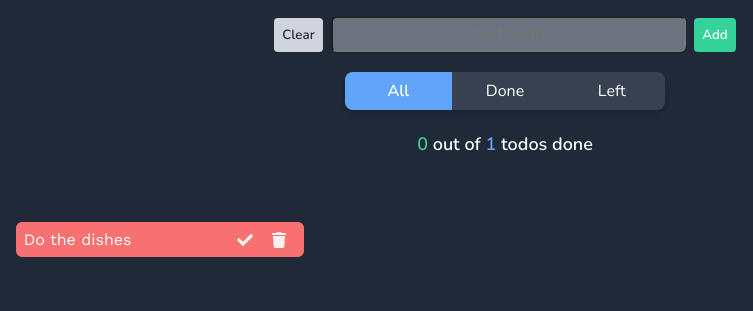
Test case: the testing the behaviour of todosContainer › should clear all todos when clearBtn is clicked
Click the button "Clear" at point(298, 35), box 274,18 -> 323,52
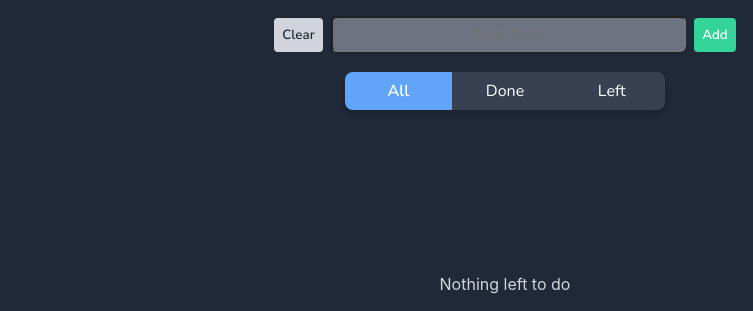
expect the element with test id "todos-container" reads "Nothing left to do": met, box 440,274 -> 570,294
